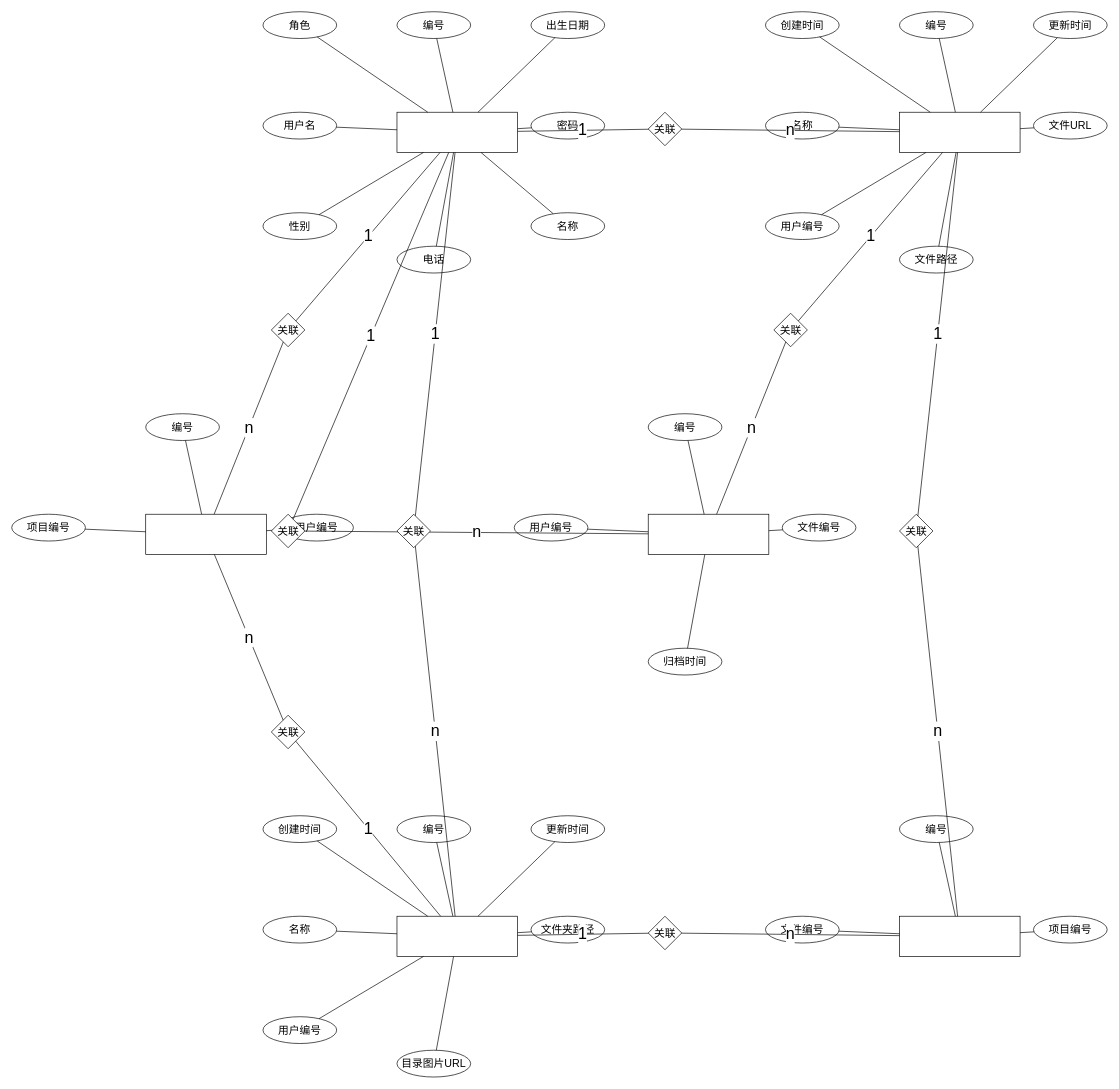
The diagram is 1119 pixels wide and 1089 high, and some of its shapes have lost their labels. The box of each missing label's shape, as (x1, y1, x2, y2) in pixels:
归档: (648, 514, 769, 554)
文件: (899, 112, 1020, 152)
文件项目关联: (899, 916, 1020, 956)
用户: (396, 112, 518, 152)
项目: (396, 916, 518, 956)
项目用户关联: (145, 514, 266, 554)
